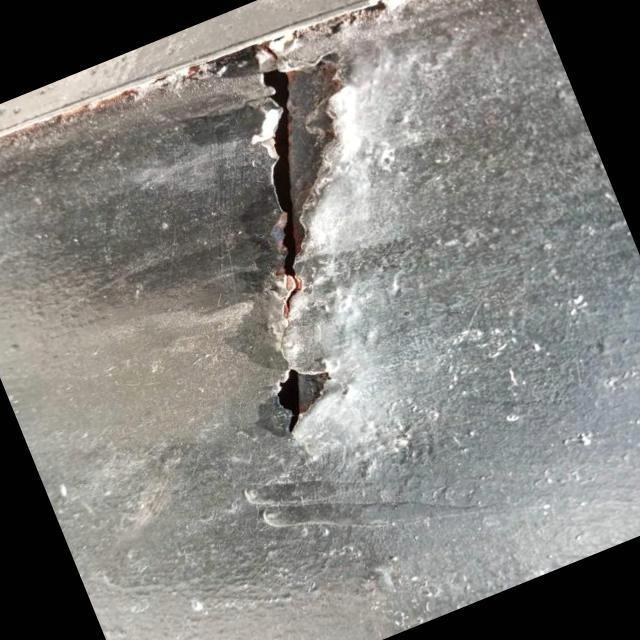defect: (244, 48, 346, 440)
